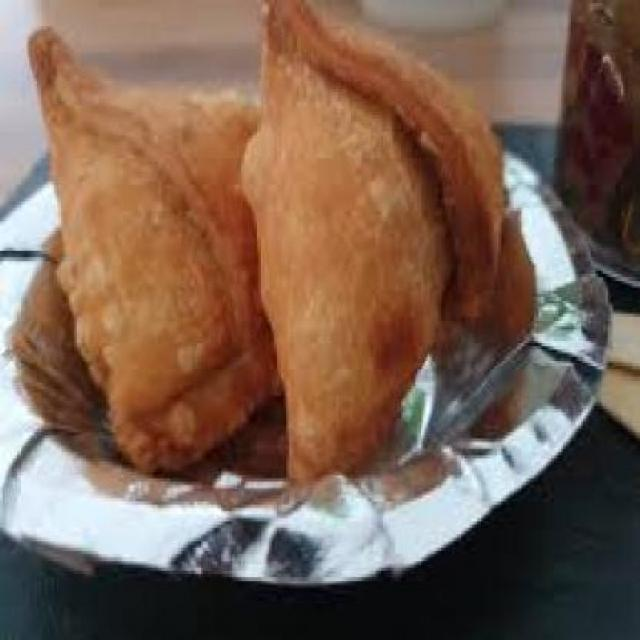samosa: (242, 0, 536, 483), (26, 28, 282, 474)
